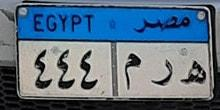4: (76, 49, 102, 95), (28, 48, 54, 92), (54, 48, 76, 92)
ر: (145, 55, 176, 85)
م: (119, 48, 144, 94)
ه: (178, 51, 208, 90)
